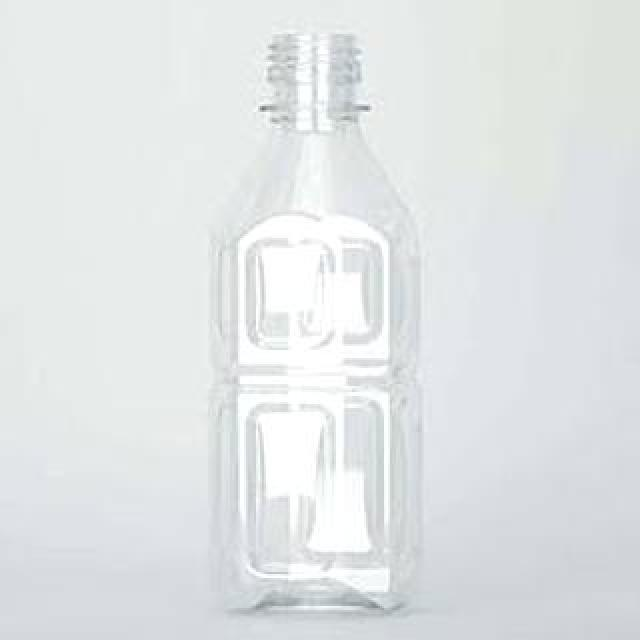Pet_Bottle: (219, 63, 427, 613)
